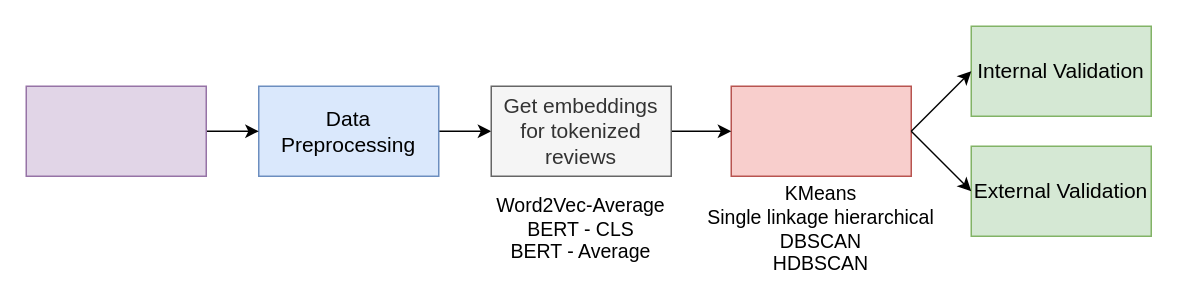
The diagram is 1178 pixels wide and 302 high, and some of its shapes have lost their labels. The centre of each missing label's shape, as x and y in pixels:
Load data: the point at 115,130
Train clustering algorithm: the point at 820,130
